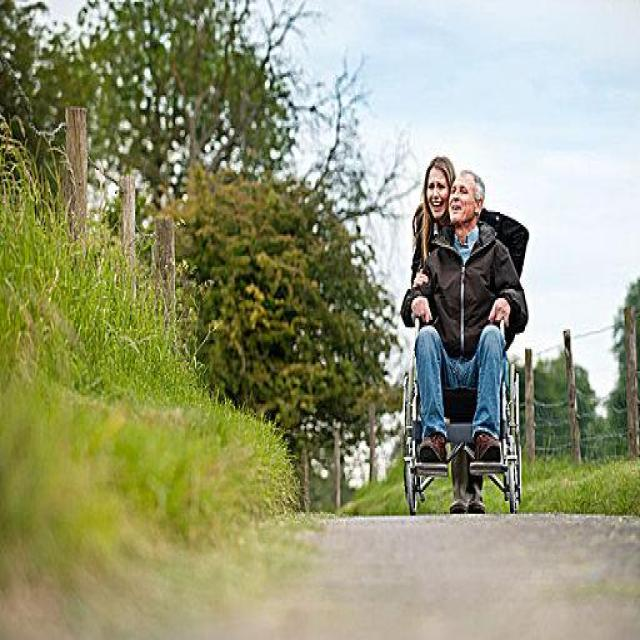wheelchairs: (392, 288, 532, 522)
